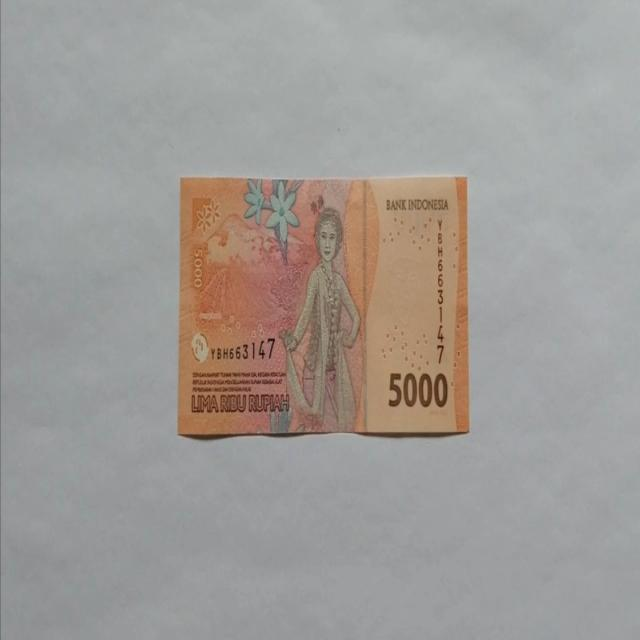lima ribu rupiah: (176, 174, 469, 438), (278, 206, 362, 432)
